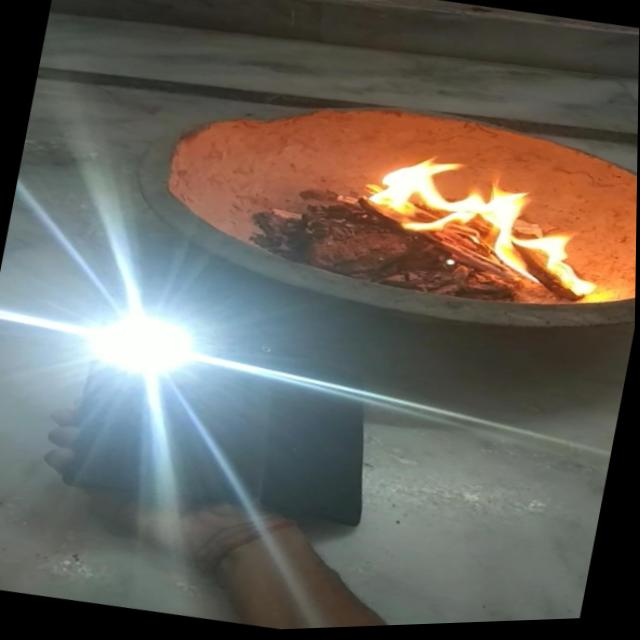fire: (348, 139, 614, 313)
